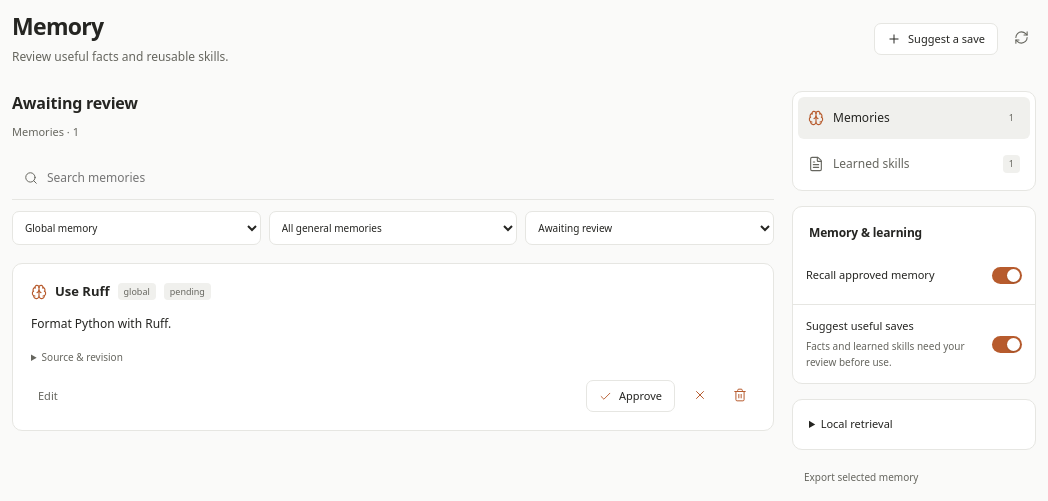
Test: memory review layout › keeps category and preferences in the right rail and saved content in review
Expected: the text "Use Ruff" is shown, [55,282,110,301]
Expected: the heading "Awaiting review" is shown, [12,91,138,115]
Click the switch named "Recall approved memory" at {"x": 1007, "y": 275}, box [992,267,1022,284]
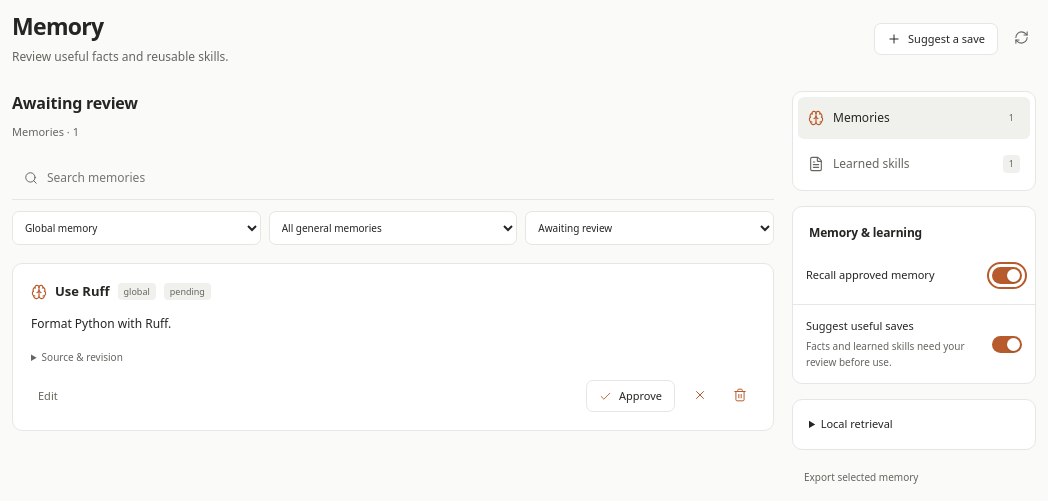
Click the button "Learned skills 1" at {"x": 914, "y": 164}, box [798,143,1030,185]
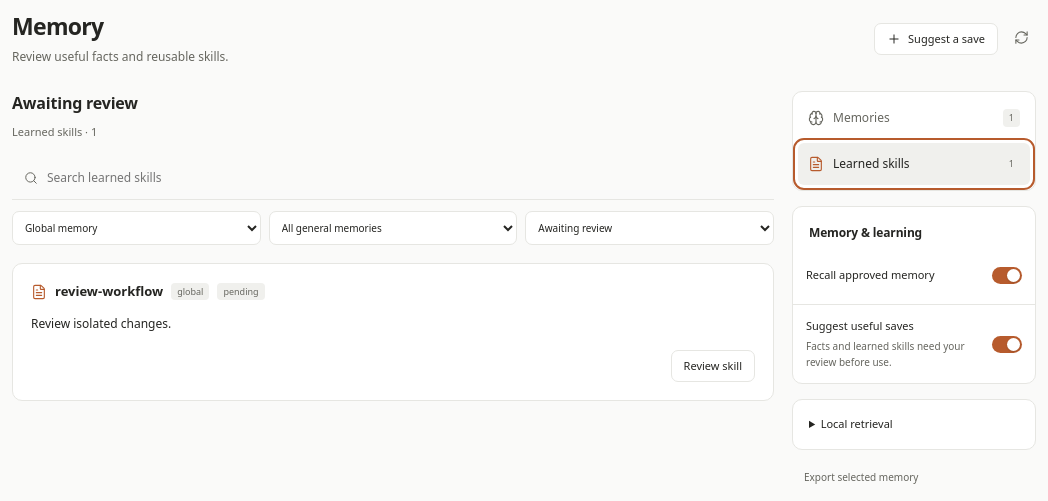
Expected: the text "review-workflow" is shown, [55,282,163,301]
Expected: the text "Use Ruff" is gone
